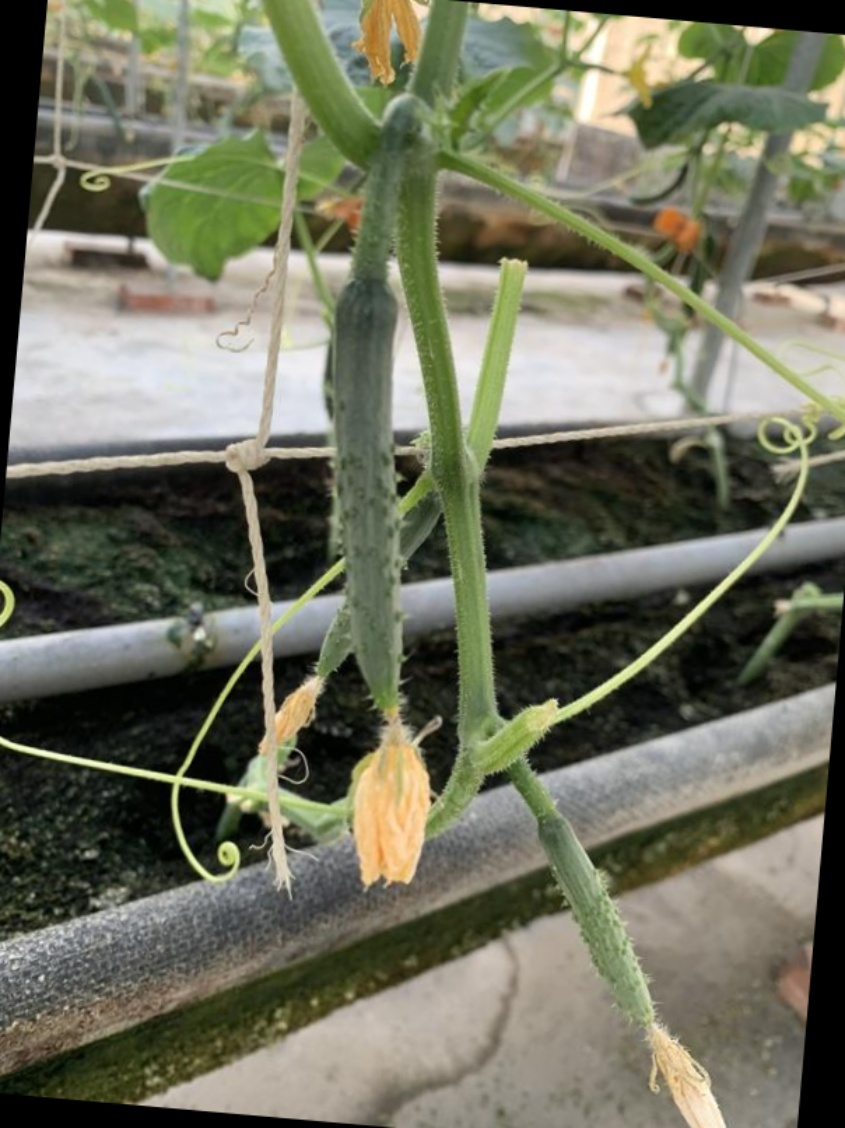growth: (307, 258, 438, 904)
